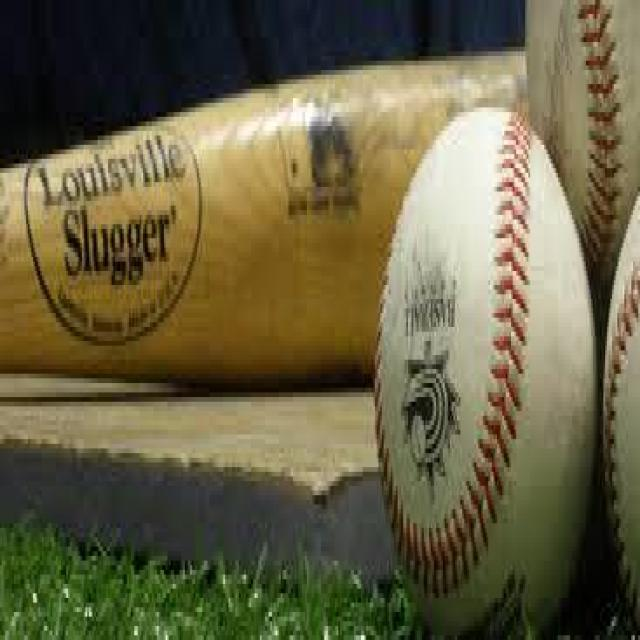ball: (374, 125, 640, 640)
